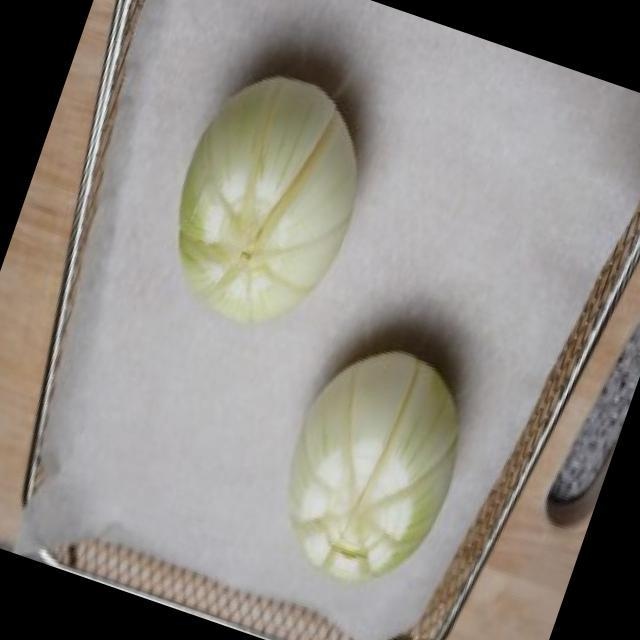Onion: (175, 80, 359, 317), (291, 349, 458, 579)
